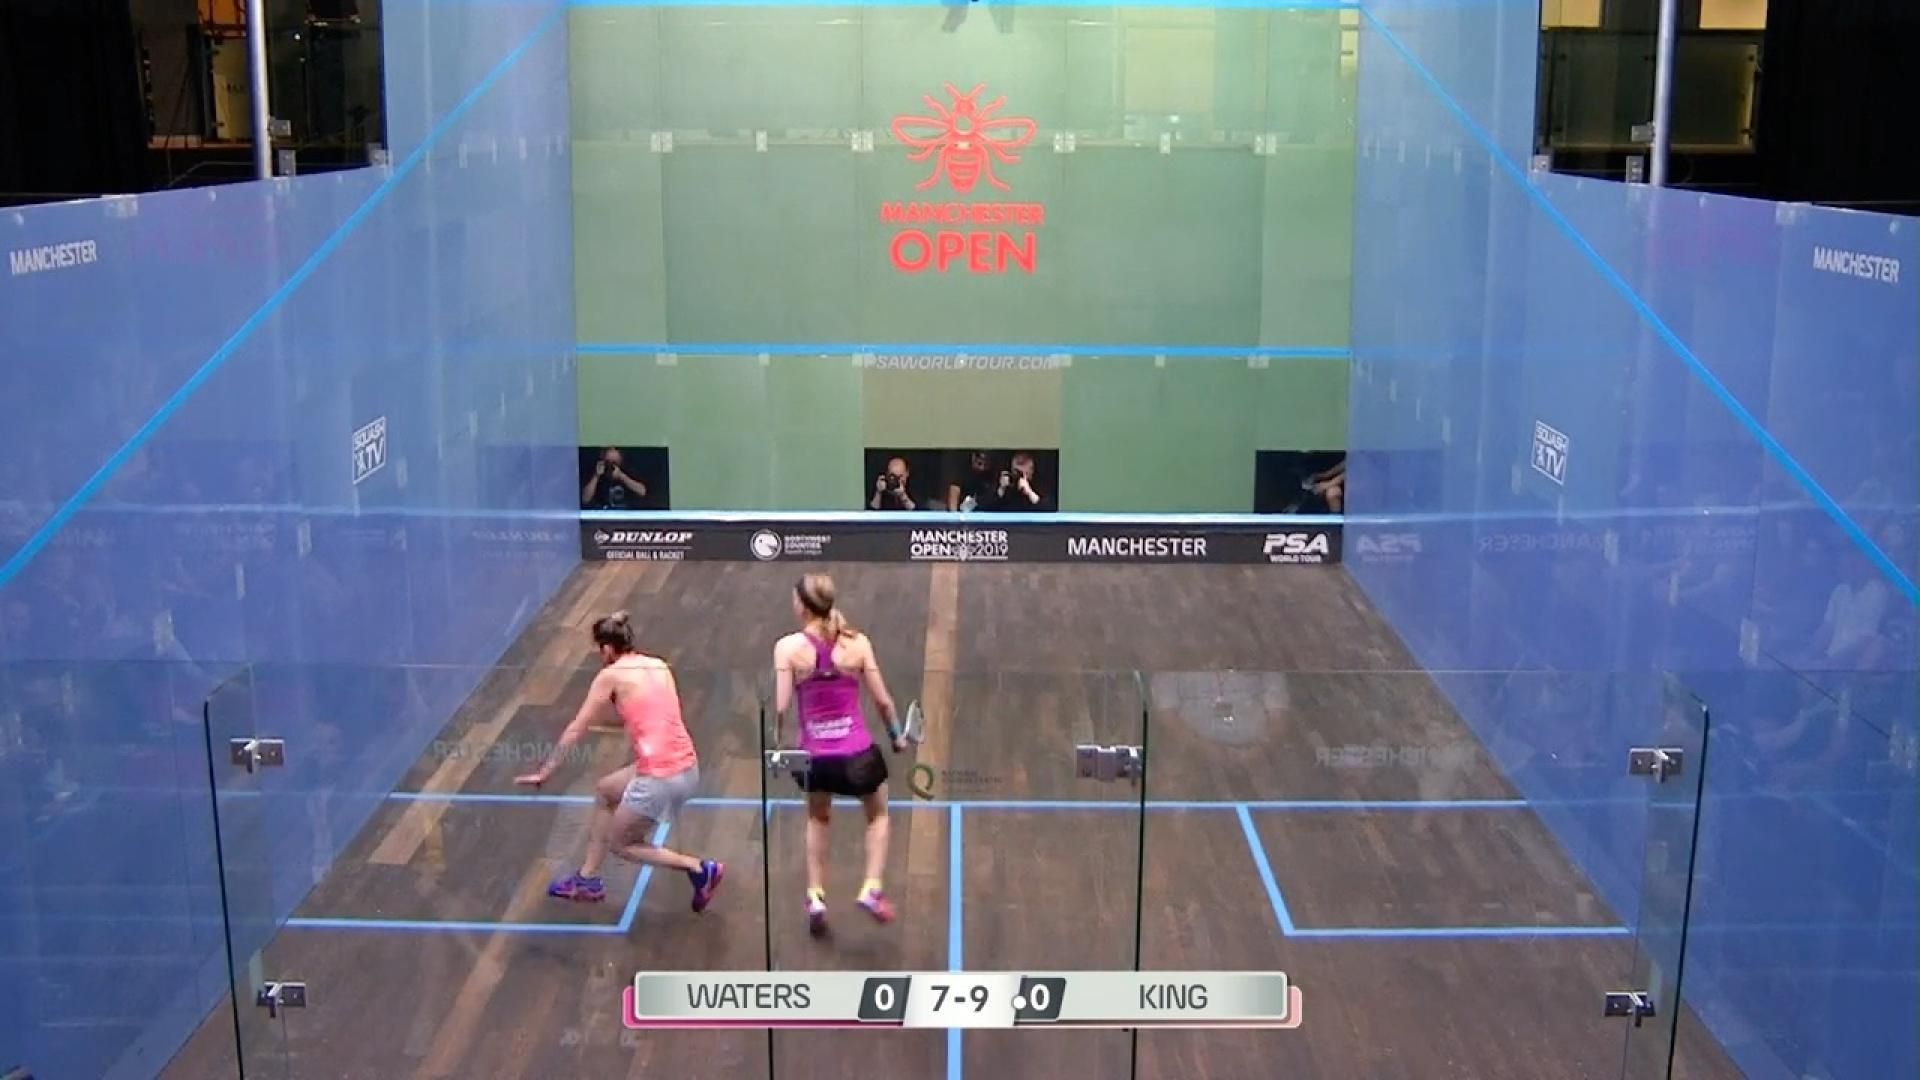Squash-Ball: (485, 595, 550, 655)
